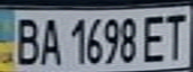1: (63, 14, 84, 65)
6: (84, 14, 106, 65)
8: (118, 13, 142, 64)
9: (103, 15, 124, 65)
A: (36, 14, 63, 66)
B: (9, 14, 42, 66)
E: (139, 11, 172, 63)
T: (160, 10, 190, 62)
